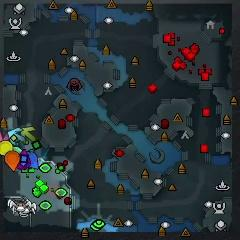p1: (27, 151, 38, 169)
p2: (11, 146, 21, 153)
p3: (17, 150, 30, 170)
p4: (0, 140, 12, 155)
p5: (5, 151, 20, 172)
x1: (0, 131, 8, 143)
x2: (20, 126, 36, 141)
x3: (8, 128, 25, 144)
